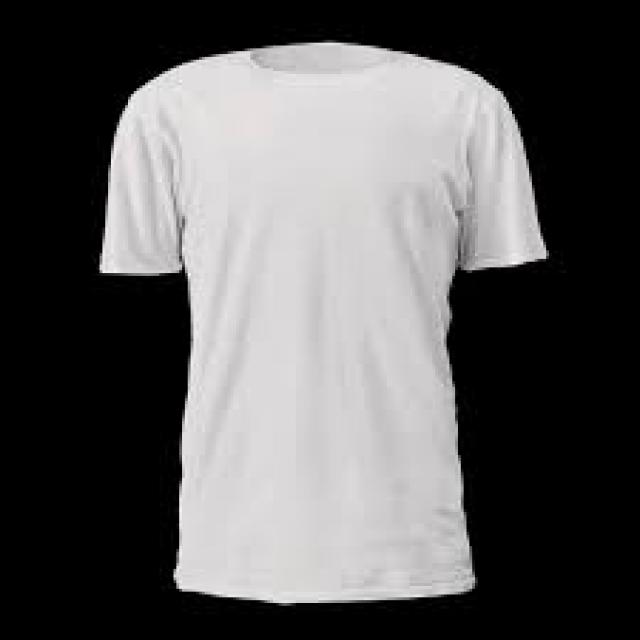Shirt: (91, 50, 550, 624)
